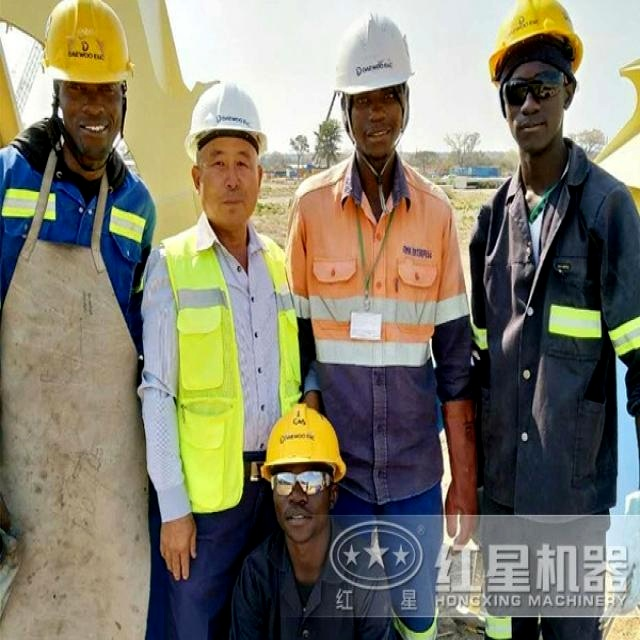Con_Casco: (340, 14, 412, 156)
Con_Chaleco: (160, 224, 296, 459)
